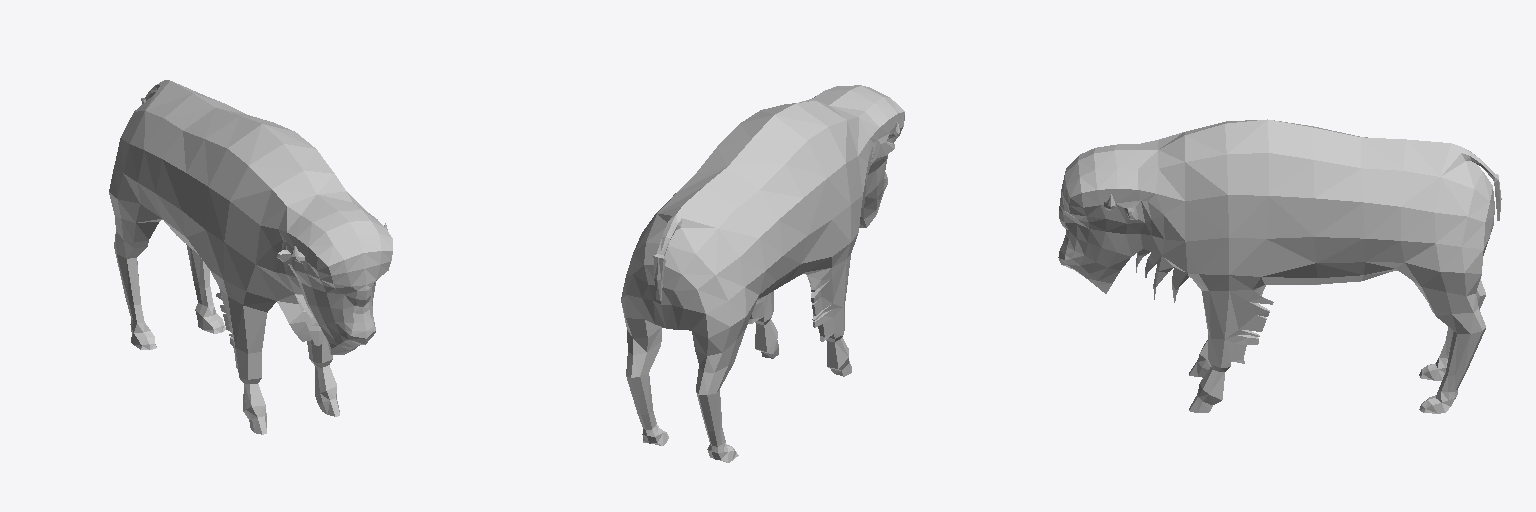
Rendered from bison.obj.
The picture shows the model from 3 angles: view 1: azimuth 30°, elevation 25°; view 2: azimuth 150°, elevation 25°; view 3: azimuth 270°, elevation 25°; orthographic projection.
Parts seen in each view (by area): view 1: bison; view 2: bison; view 3: bison.
Boxes of the visible parts, x1,y1,x2,y2 form: bison: [109, 80, 392, 434]; bison: [621, 85, 904, 462]; bison: [1058, 119, 1501, 413].
Size of the model in its own units: 0.6333 by 1.41 by 2.08.